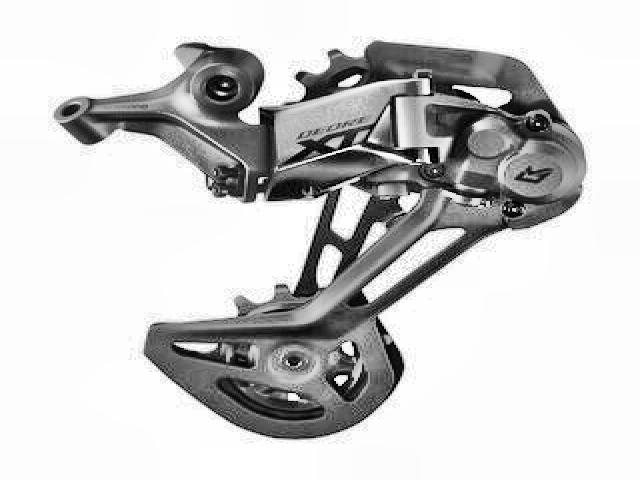rear_derailleur: (46, 34, 595, 443)
